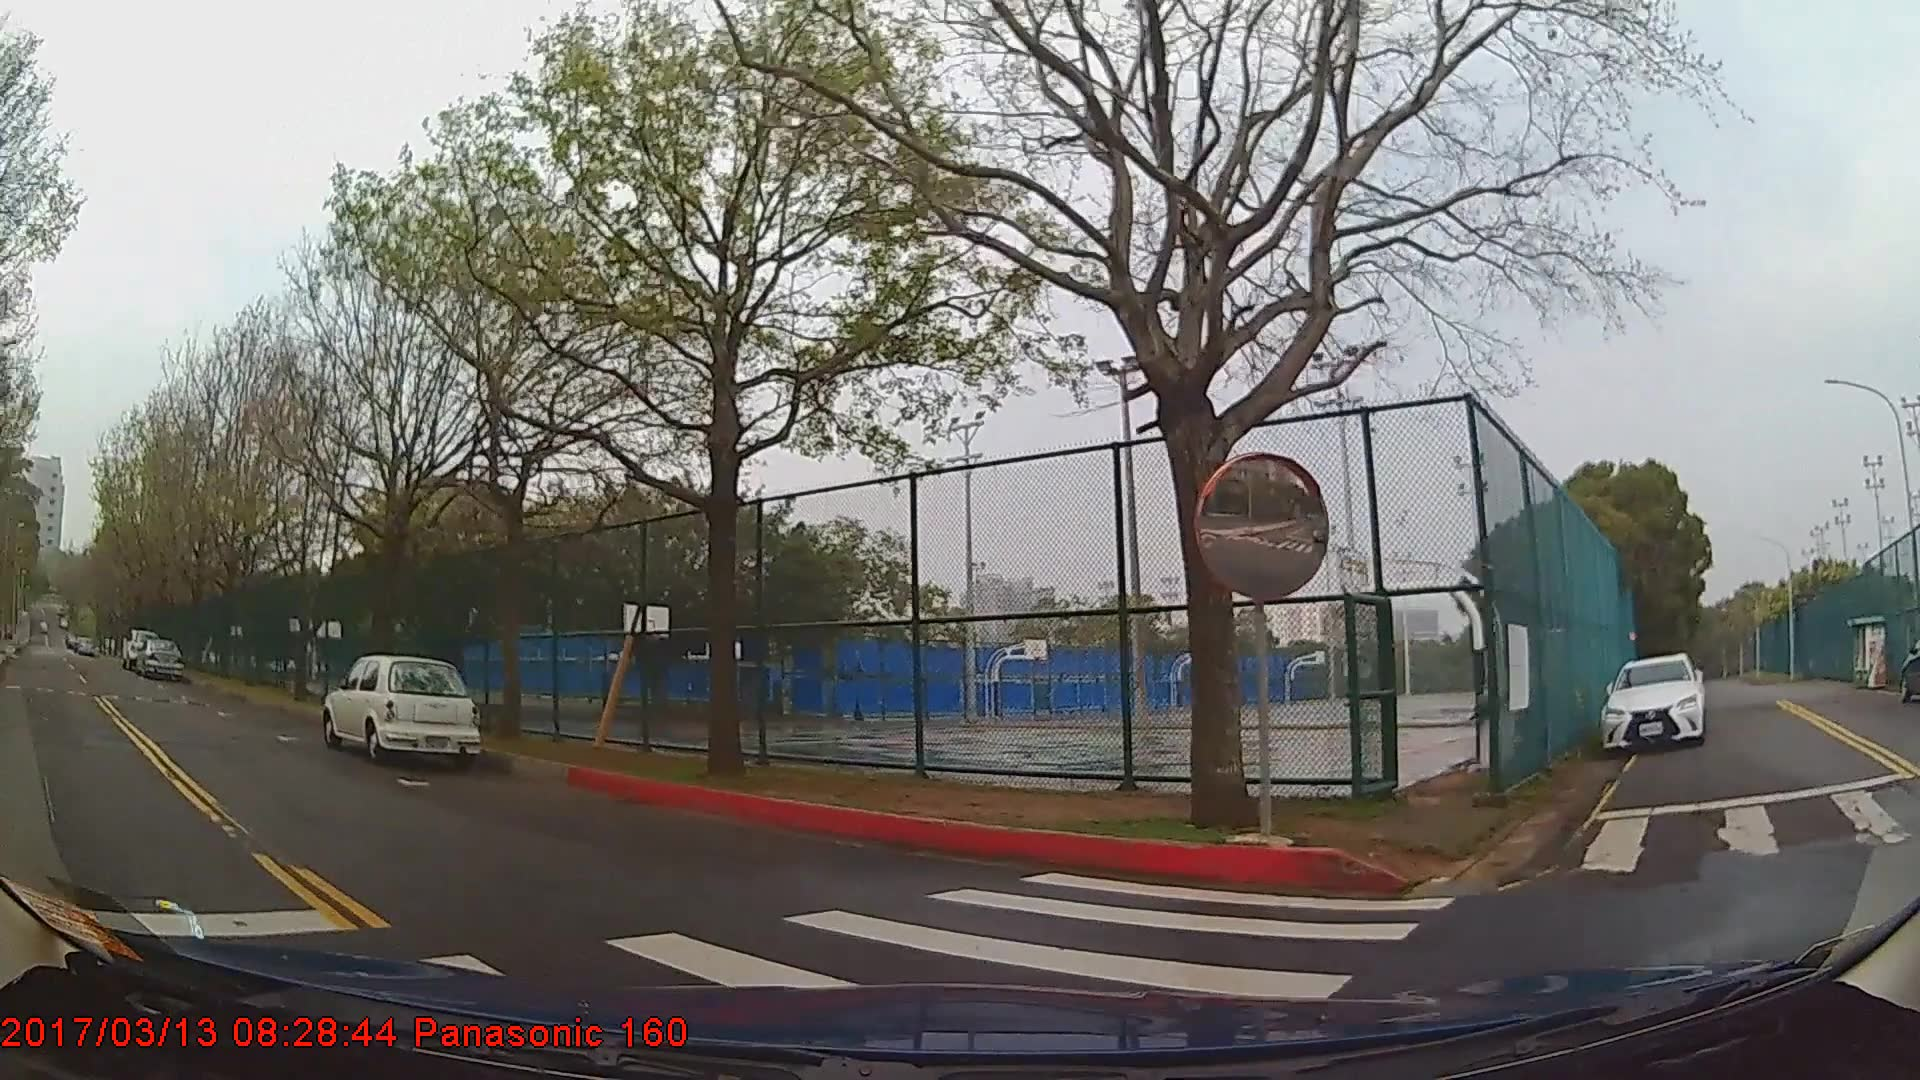vehicle: (323, 655, 481, 760), (1600, 654, 1706, 753), (133, 634, 185, 678)
